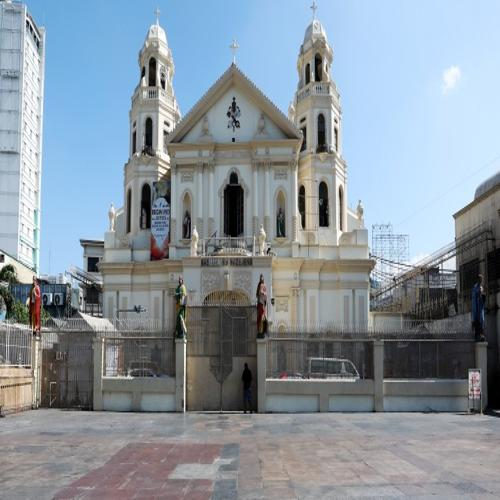Quiapo Church: (74, 5, 382, 408)
